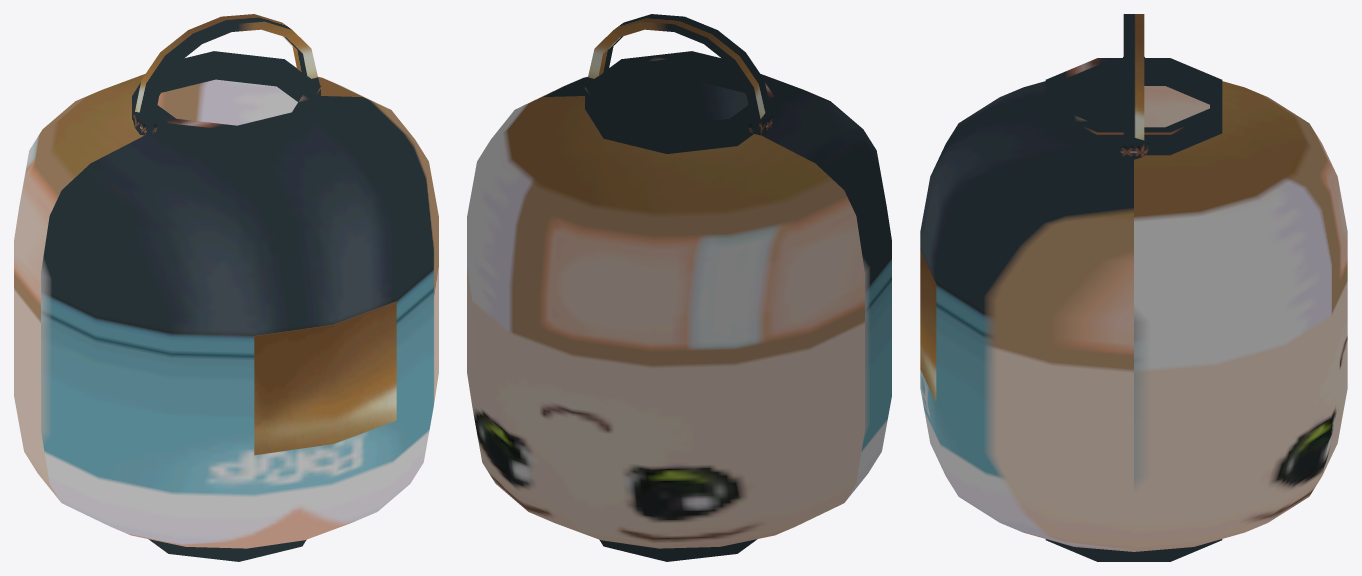
Rendered from view.ico.obj.
The picture shows the model from 3 angles, left to right: view 1: azimuth 30°, elevation 25°; view 2: azimuth 150°, elevation 25°; view 3: azimuth 270°, elevation 25°; orthographic projection.
Size of the model in its own units: 3.06 by 3.95 by 3.06.
